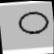no answer: (14, 8, 51, 39)
